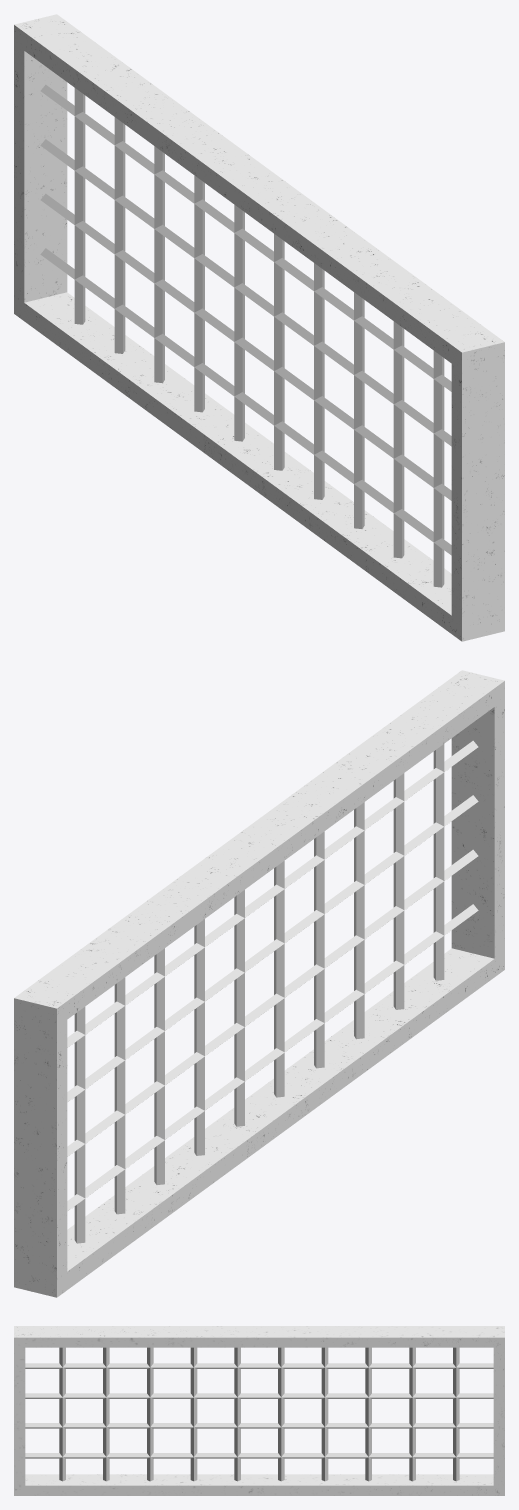
Rendered from wallwithhole_lid.fbx.
3 renders of one model, top to bottom at view 1: azimuth 30°, elevation 25°; view 2: azimuth 150°, elevation 25°; view 3: azimuth 270°, elevation 25°, orthographic. The views are drawn at different scales.
Parts seen in each view (by area): view 1: Plane; view 2: Plane; view 3: Plane.
Part boxes in pixels (left/top/right/bottom): Plane: left=14, top=14, right=504, bottom=641; Plane: left=14, top=670, right=504, bottom=1297; Plane: left=14, top=1326, right=504, bottom=1495.
Size of the model in its own units: 0.2 by 1.29 by 3.61.
